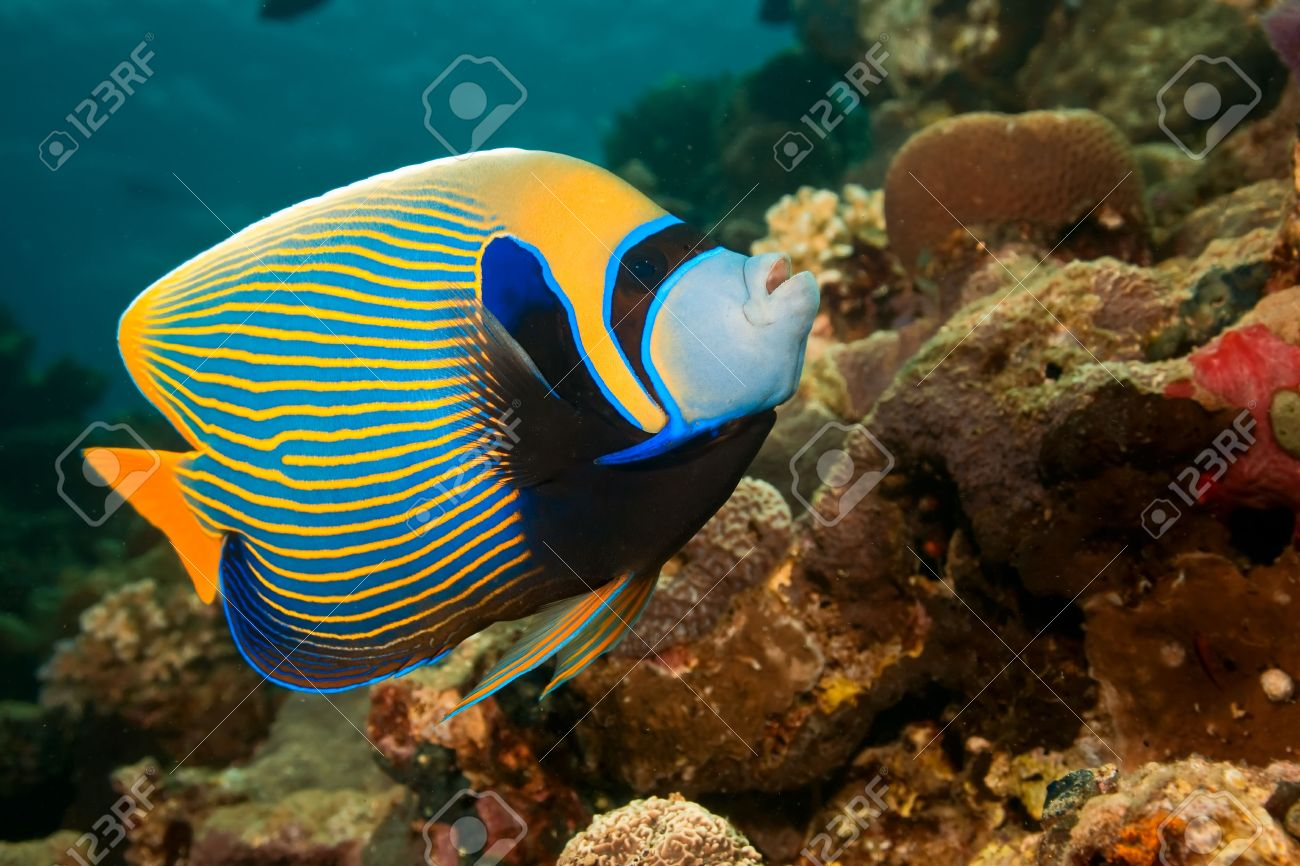Pomacanthus_imperator: (42, 133, 857, 716)
